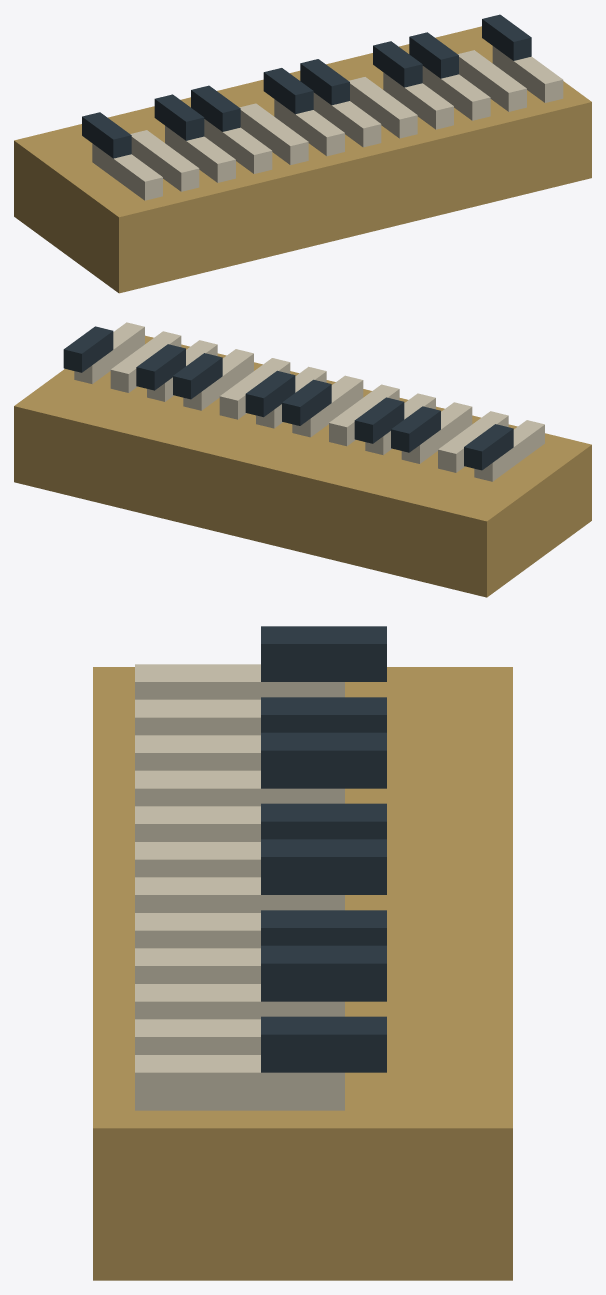
File: education-18.glb
3 views of the same model, one above another, from view 1: azimuth 30°, elevation 25°; view 2: azimuth 150°, elevation 25°; view 3: azimuth 270°, elevation 25° (orthographic). The views are drawn at different scales.
Visible parts, largest first — view 1: Music keyboard; view 2: Music keyboard; view 3: Music keyboard.
Part boxes in pixels (x1,y1,x2,y2): Music keyboard: [14, 14, 591, 293]; Music keyboard: [14, 322, 591, 597]; Music keyboard: [93, 626, 512, 1280].
Size of the model in its own units: 2.08 by 0.48 by 0.8.
